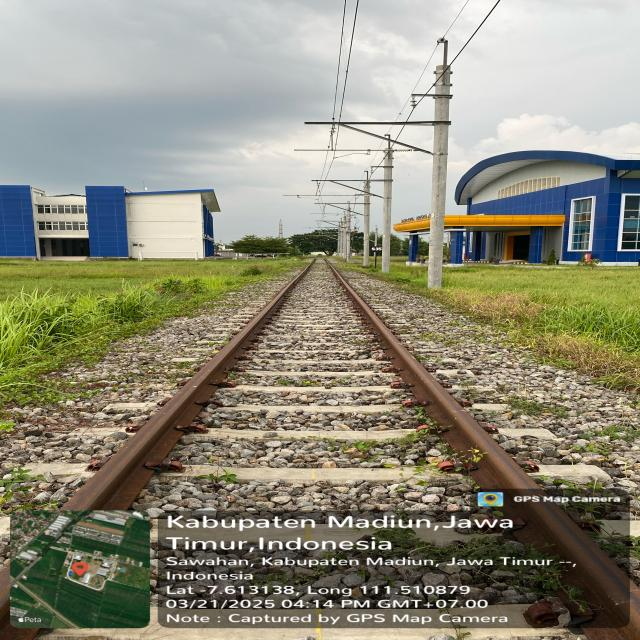rail-detection: (63, 258, 315, 510), (324, 258, 541, 495), (520, 501, 632, 625)
